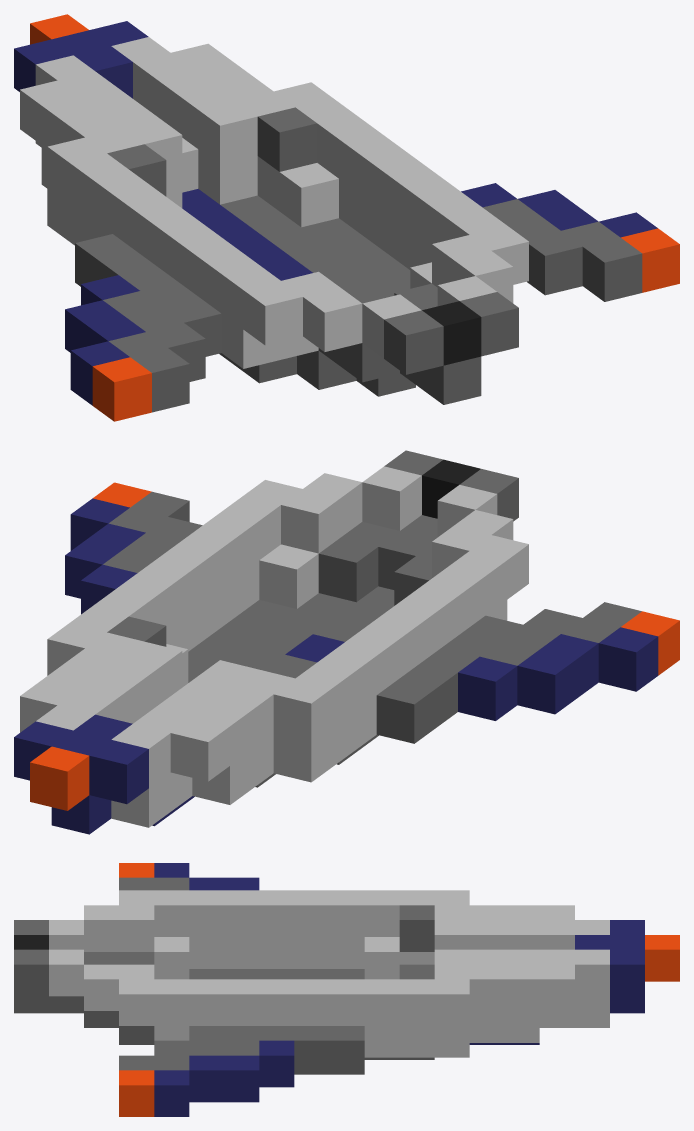
File: speeder_2.glb
3 renders of one model, top to bottom at view 1: azimuth 30°, elevation 25°; view 2: azimuth 150°, elevation 25°; view 3: azimuth 270°, elevation 25°, orthographic. The views are drawn at different scales.
Bounding box in the file's own units: 15 × 3 × 19.
